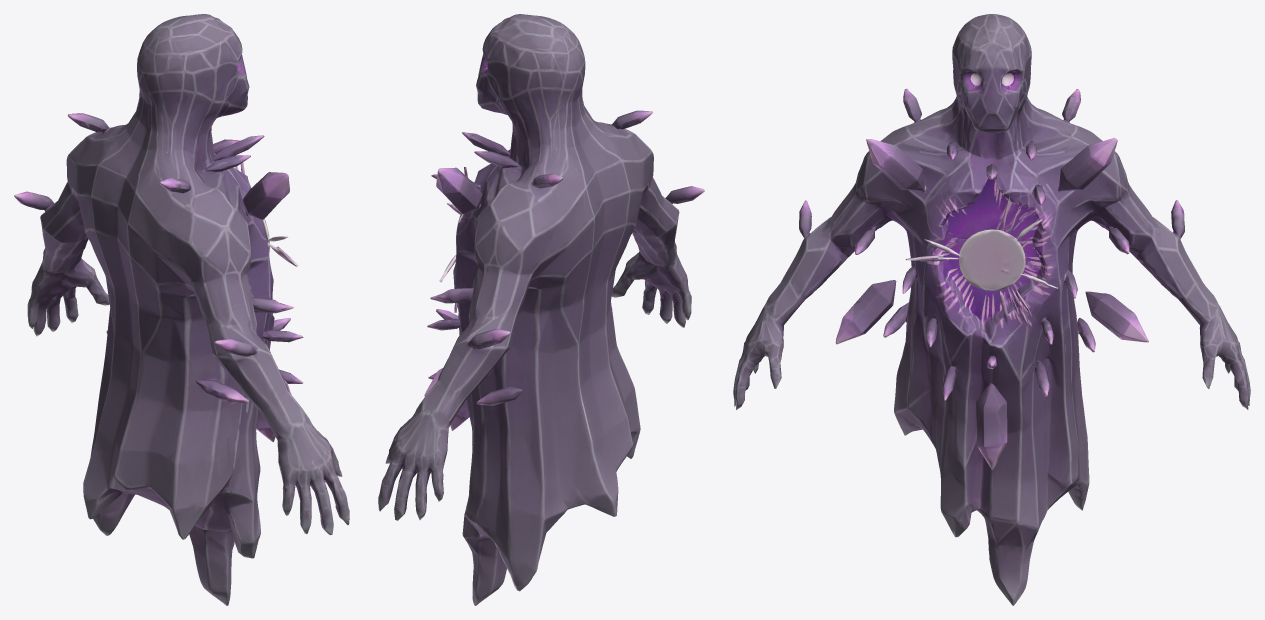
Rendered from Enemigo11.glb.
The picture shows the model from 3 angles, left to right: view 1: azimuth 30°, elevation 25°; view 2: azimuth 150°, elevation 25°; view 3: azimuth 270°, elevation 25°; orthographic projection. The views are drawn at different scales.
Visible parts, largest first — view 1: tripo_node_2f72db81-a264-4bed-ba27-625bd7f83827; view 2: tripo_node_2f72db81-a264-4bed-ba27-625bd7f83827; view 3: tripo_node_2f72db81-a264-4bed-ba27-625bd7f83827.
Boxes of the visible parts, bbox=[...] form: tripo_node_2f72db81-a264-4bed-ba27-625bd7f83827: bbox=[14, 14, 349, 605]; tripo_node_2f72db81-a264-4bed-ba27-625bd7f83827: bbox=[378, 14, 704, 605]; tripo_node_2f72db81-a264-4bed-ba27-625bd7f83827: bbox=[733, 14, 1250, 605].
Bounding box in the file's own units: 0.3284 × 0.9803 × 0.8151.
Materials: 1 (1 with a texture image).
